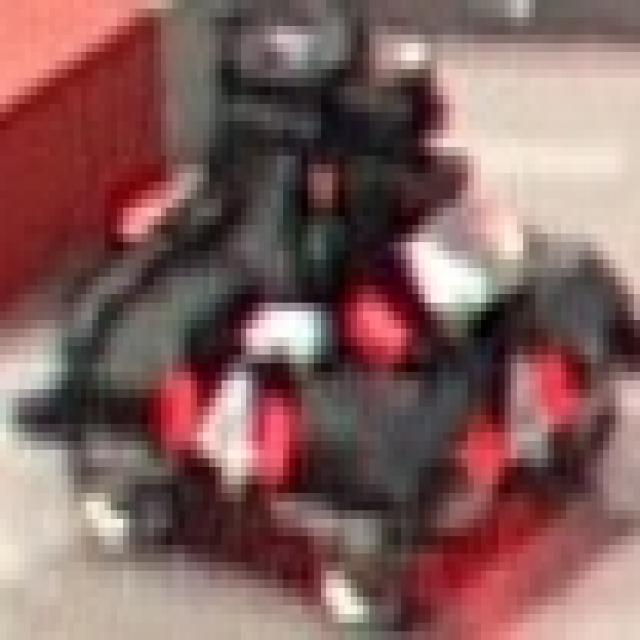R4: (338, 182, 530, 354), (154, 346, 295, 476), (456, 355, 584, 493)
